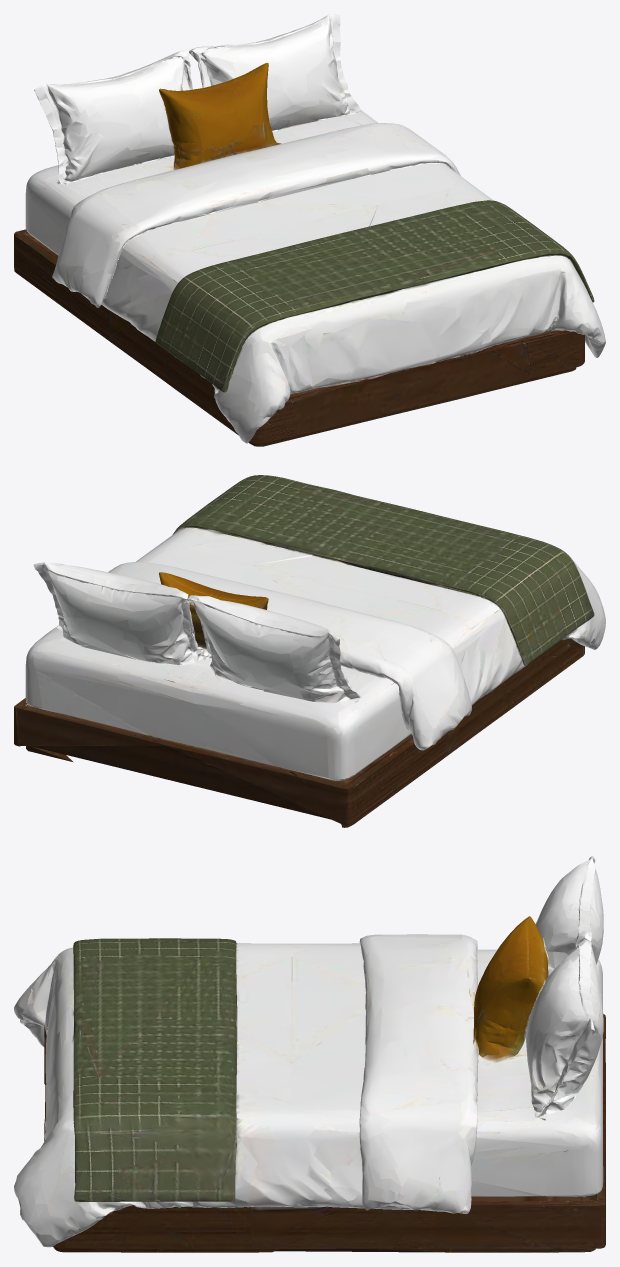
Rendered from cama.glb.
3 renders of one model, top to bottom at view 1: azimuth 30°, elevation 25°; view 2: azimuth 150°, elevation 25°; view 3: azimuth 270°, elevation 25°, orthographic. The views are drawn at different scales.
Bounding box in the file's own units: 1.71 × 0.8065 × 1.93.
1 material, 1 textured.
